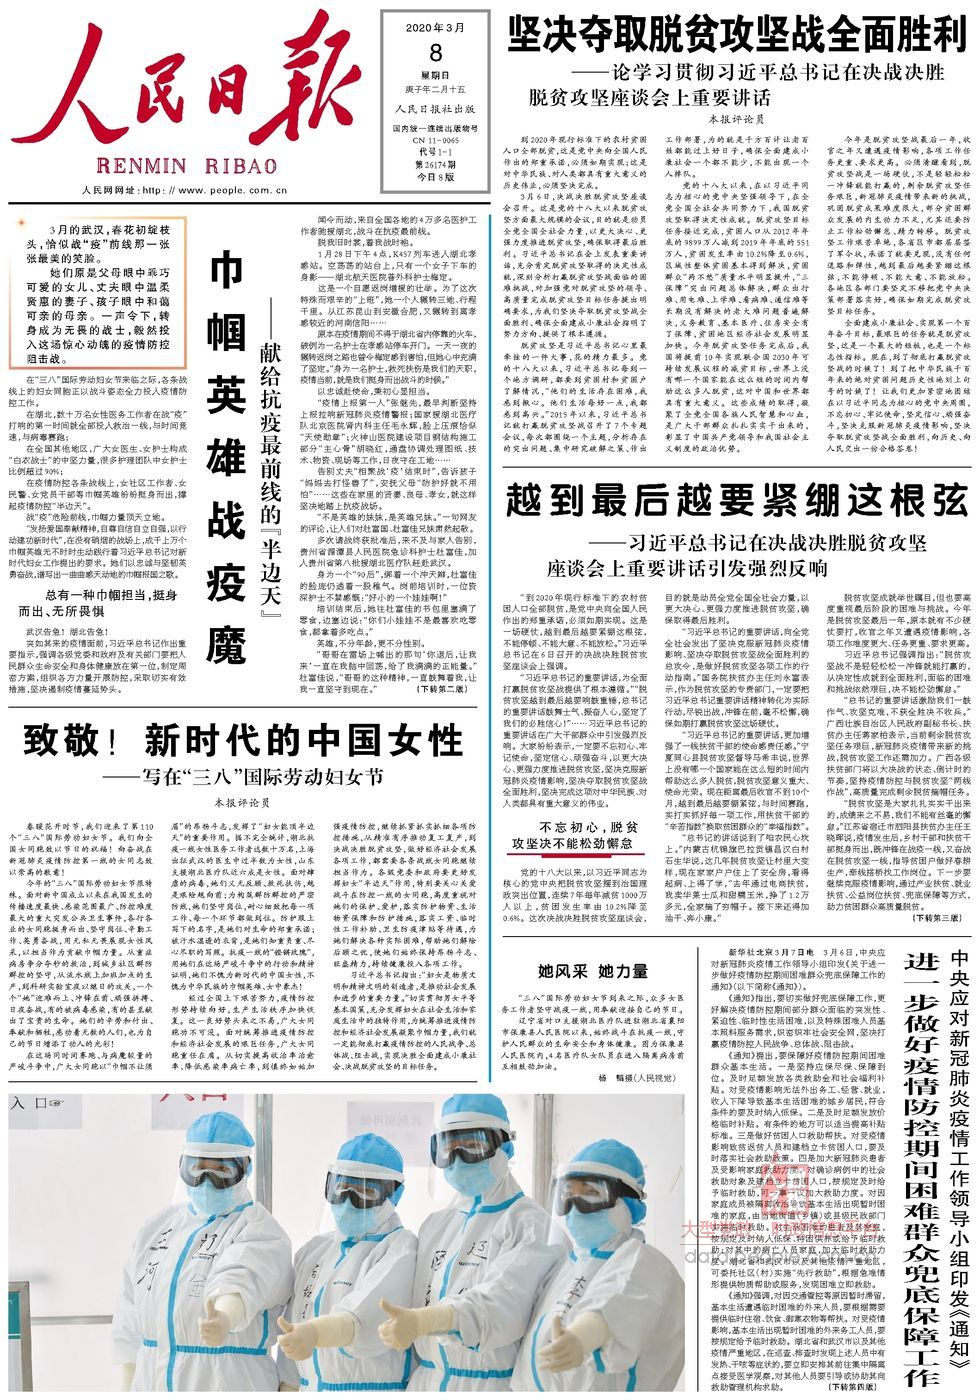pic: (3, 1085, 690, 1397)
